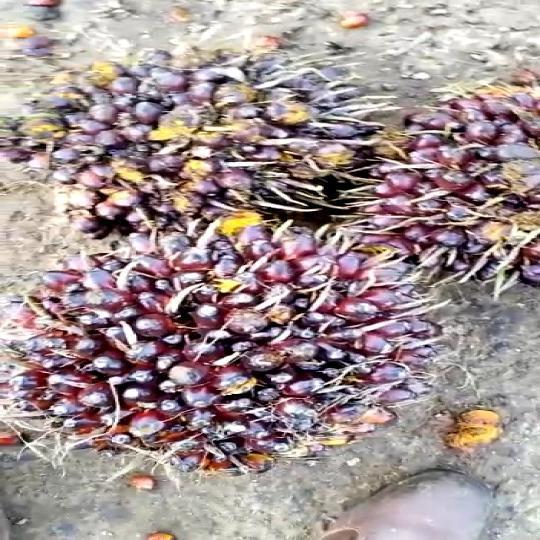kurang masak: (19, 241, 461, 482), (56, 62, 395, 208), (400, 76, 540, 280)
